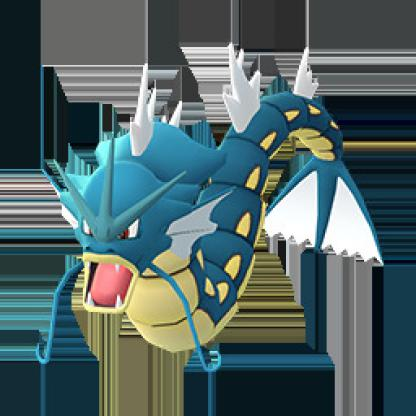Gyarados: (47, 94, 386, 370)
